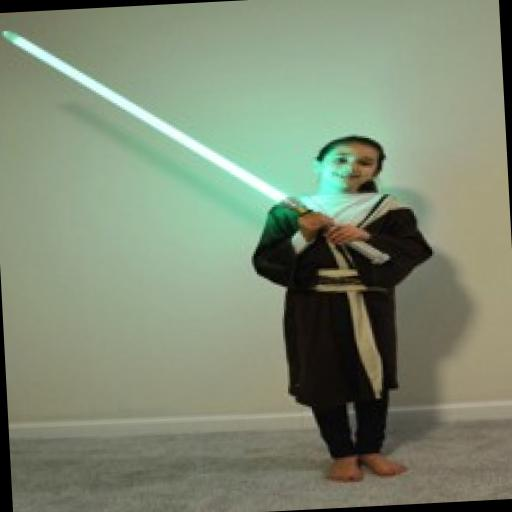human: (244, 132, 446, 487)
lightsaber: (0, 11, 389, 284)
